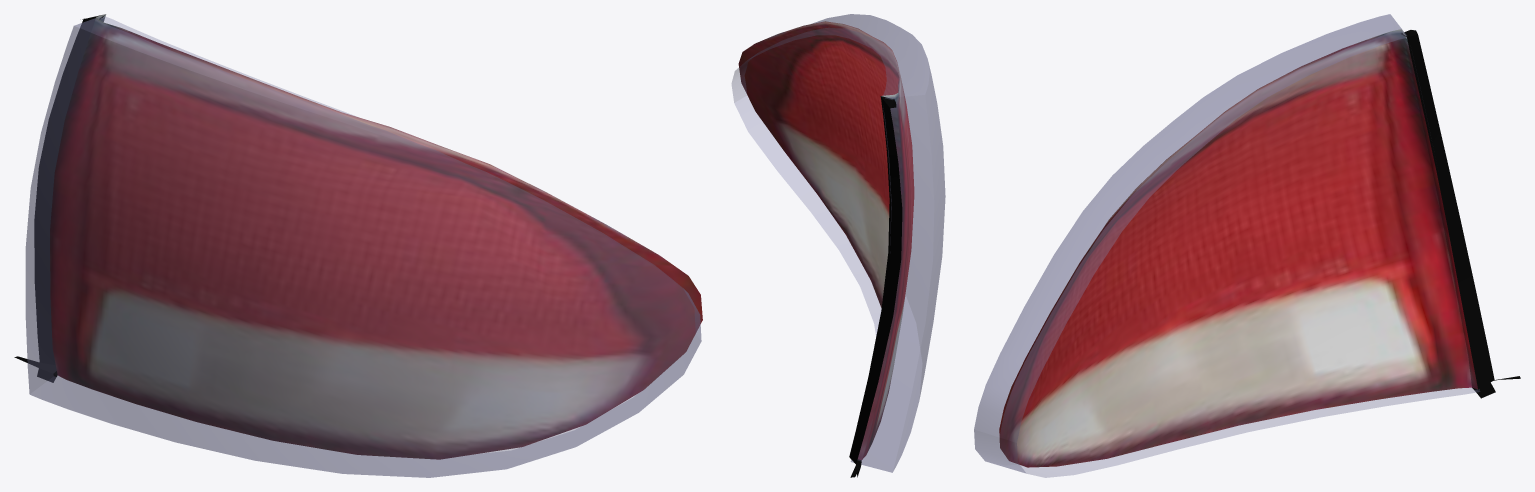
3 views of the same model, side by side, from view 1: azimuth 30°, elevation 25°; view 2: azimuth 150°, elevation 25°; view 3: azimuth 270°, elevation 25° (orthographic). The views are drawn at different scales.
Parts seen in each view (by area): view 1: U234_541C_R_U234_541C_R_2_DTaSI, U234_541C_R_1_N_U234_541C_R, U234_541C_R_U234_541C_R_3_D; view 2: U234_541C_R_1_N_U234_541C_R, U234_541C_R_U234_541C_R_2_DTaSI, U234_541C_R_U234_541C_R_3_D; view 3: U234_541C_R_1_N_U234_541C_R, U234_541C_R_U234_541C_R_2_DTaSI, U234_541C_R_U234_541C_R_3_D.
Boxes of the visible parts, bbox=[...] form: U234_541C_R_U234_541C_R_2_DTaSI: bbox=[25, 16, 701, 477]; U234_541C_R_1_N_U234_541C_R: bbox=[50, 14, 702, 459]; U234_541C_R_U234_541C_R_3_D: bbox=[14, 15, 104, 382]; U234_541C_R_1_N_U234_541C_R: bbox=[738, 21, 914, 459]; U234_541C_R_U234_541C_R_2_DTaSI: bbox=[731, 14, 945, 472]; U234_541C_R_U234_541C_R_3_D: bbox=[849, 96, 902, 477]; U234_541C_R_1_N_U234_541C_R: bbox=[999, 29, 1477, 467]; U234_541C_R_U234_541C_R_2_DTaSI: bbox=[974, 14, 1479, 477]; U234_541C_R_U234_541C_R_3_D: bbox=[1401, 30, 1520, 398].
Bounding box in the file's own units: 22.84 × 19.6 × 26.14.
